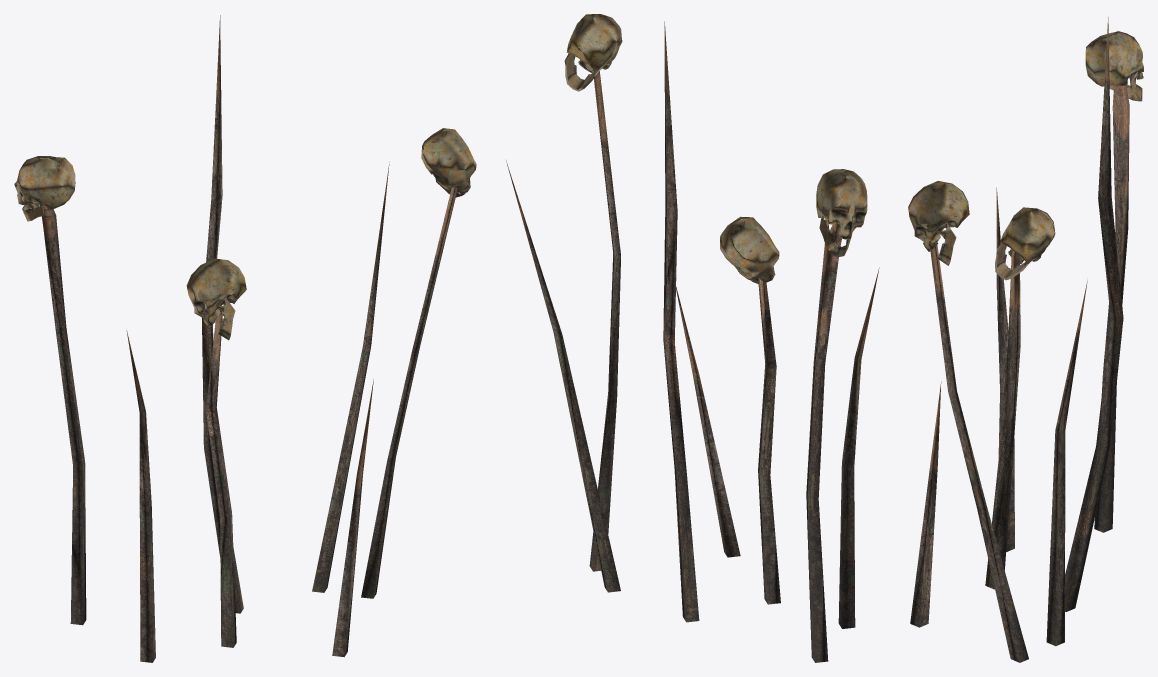
File: greed-stickskull.glb
3 renders of one model, left to right at view 1: azimuth 30°, elevation 25°; view 2: azimuth 150°, elevation 25°; view 3: azimuth 270°, elevation 25°, orthographic. The views are drawn at different scales.
Parts seen in each view (by area): view 1: greed-stickskull_mesh; view 2: greed-stickskull_mesh; view 3: greed-stickskull_mesh.
Part boxes in pixels (x1,y1,x2,y2): greed-stickskull_mesh: (14, 15, 476, 662); greed-stickskull_mesh: (506, 14, 879, 662); greed-stickskull_mesh: (908, 17, 1143, 662).
Size of the model in its own units: 1.24 by 1.88 by 0.6733.
Materials: 2 (2 with a texture image).
